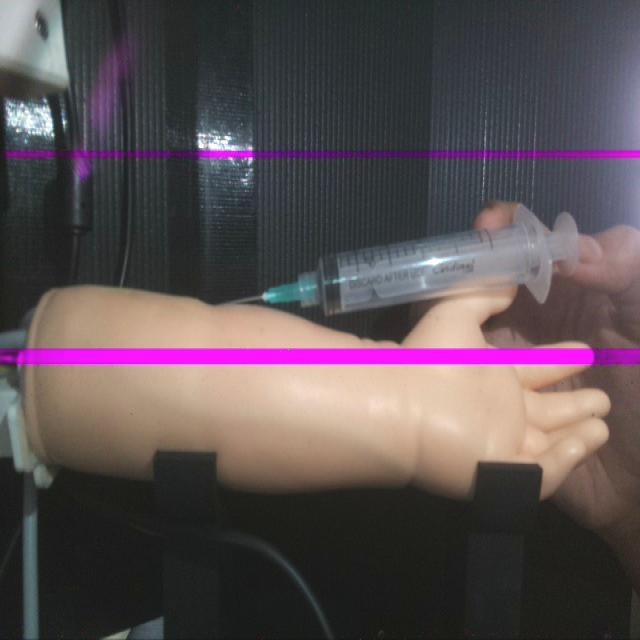Below 15 degrees: (228, 202, 583, 318)
